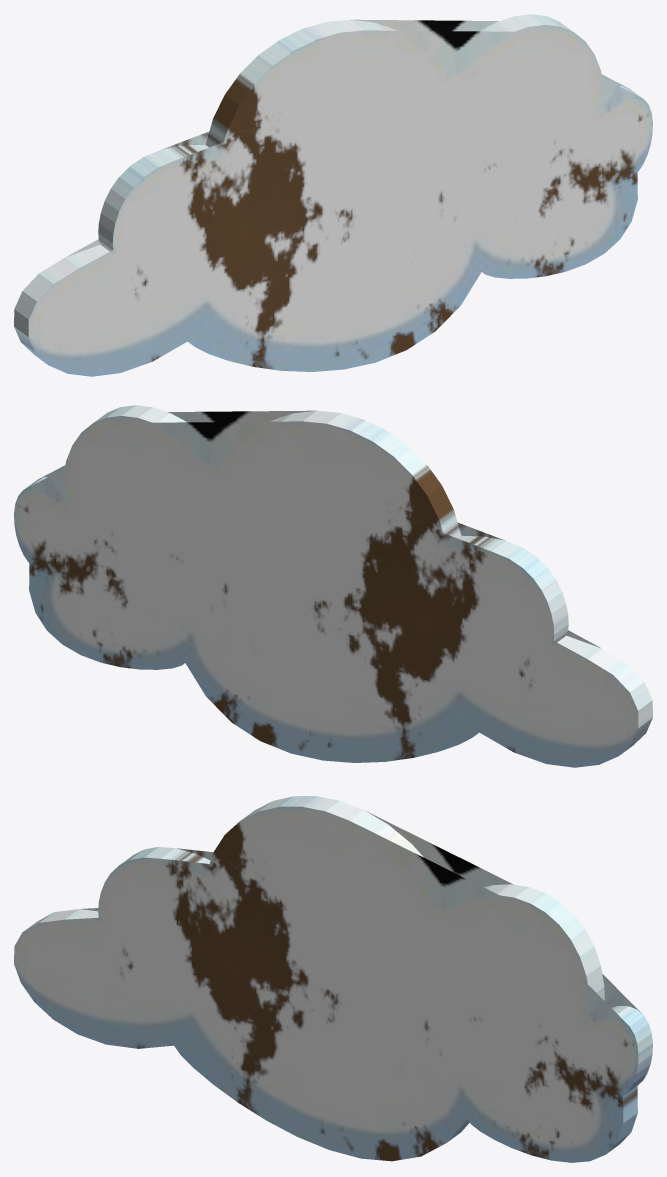
File: nuve 2.fbx
3 views of the same model, one above another, from view 1: azimuth 30°, elevation 25°; view 2: azimuth 150°, elevation 25°; view 3: azimuth 330°, elevation 25° (orthographic).
Visible parts, largest first — view 1: nuve 2; view 2: nuve 2; view 3: nuve 2.
Boxes of the visible parts, bbox=[...] form: nuve 2: bbox=[14, 14, 652, 376]; nuve 2: bbox=[14, 405, 652, 767]; nuve 2: bbox=[14, 796, 652, 1162].
Bounding box in the file's own units: 440 × 228 × 17.73.
